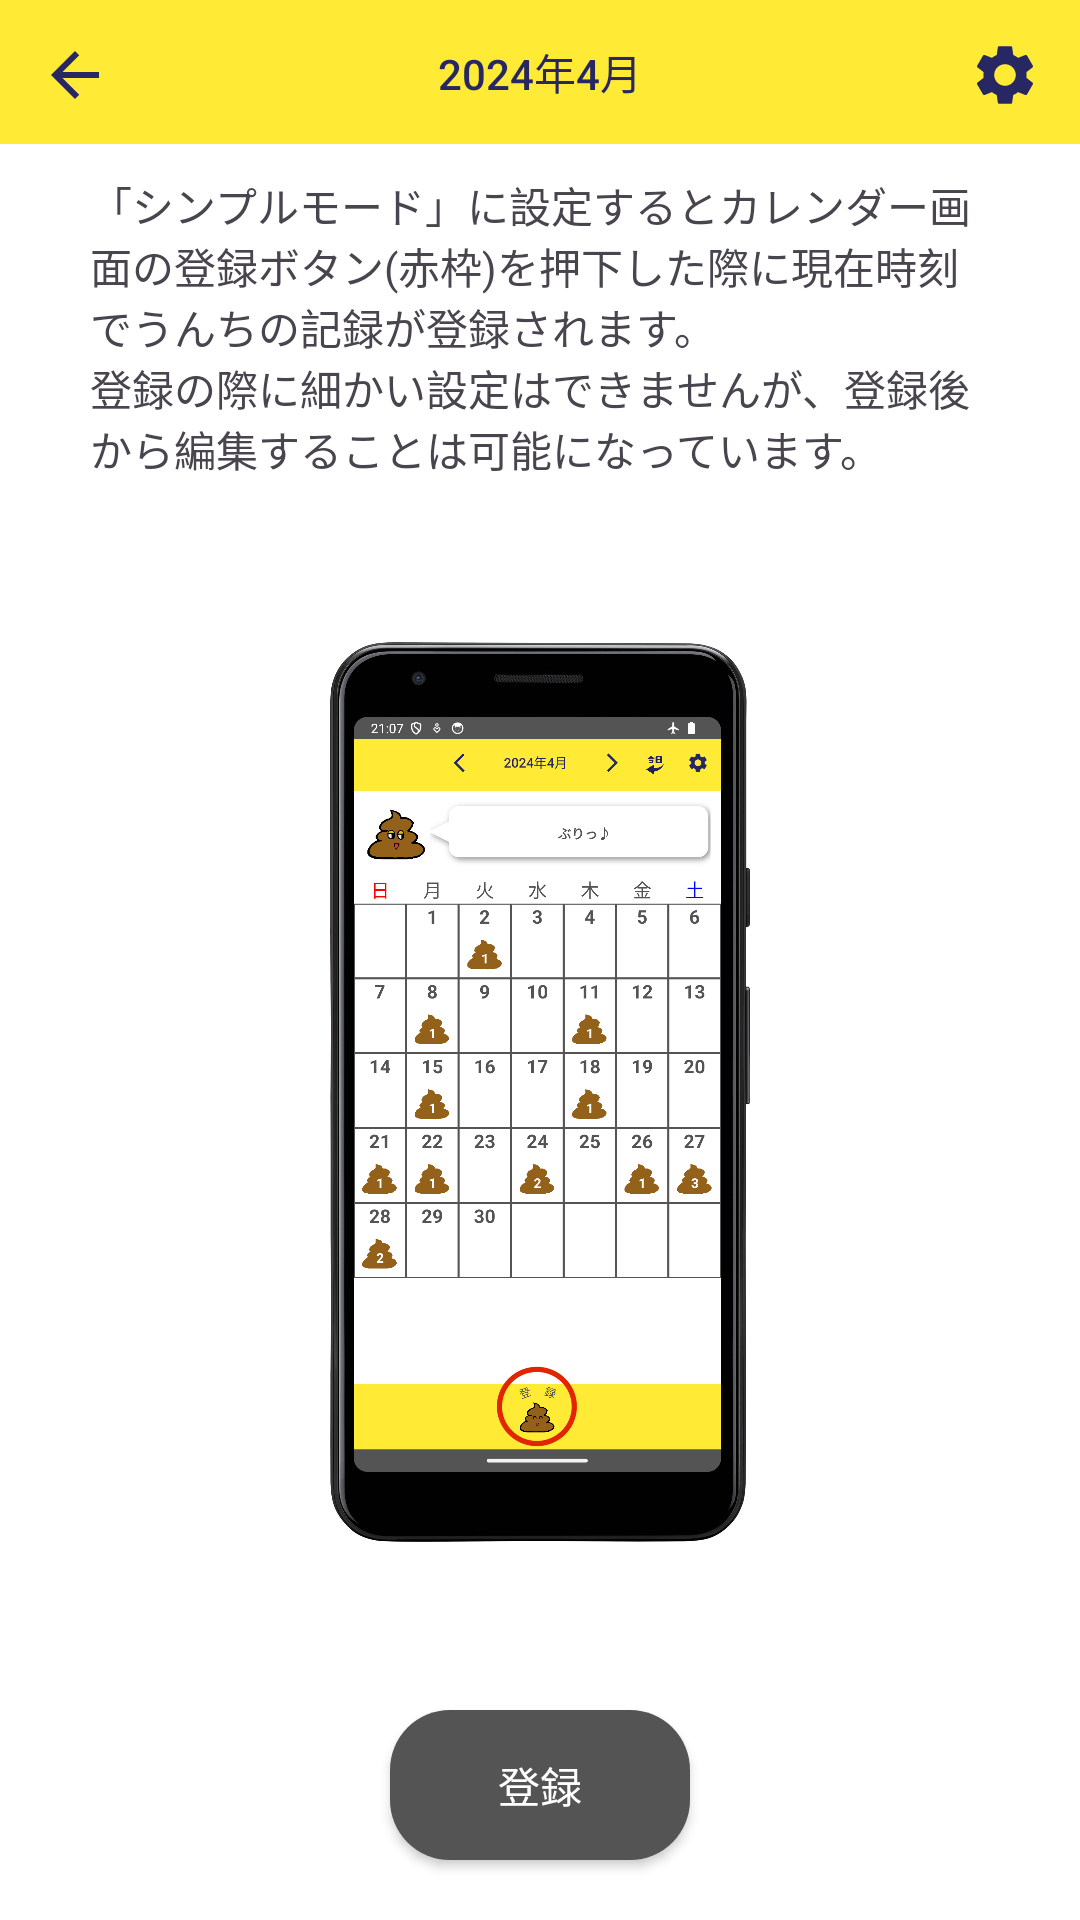

Icons on this 1080x1920 Android screen, each with its box as (x1, y1, x2, y2):
back: (51, 51, 99, 99)
settings: (977, 46, 1033, 104)
